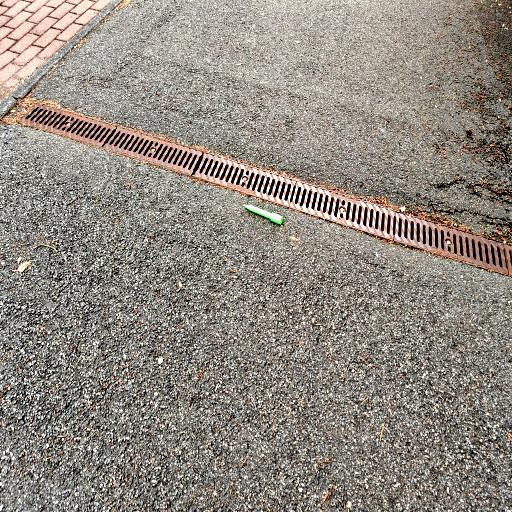Probe-Detection: (243, 204, 283, 225)
